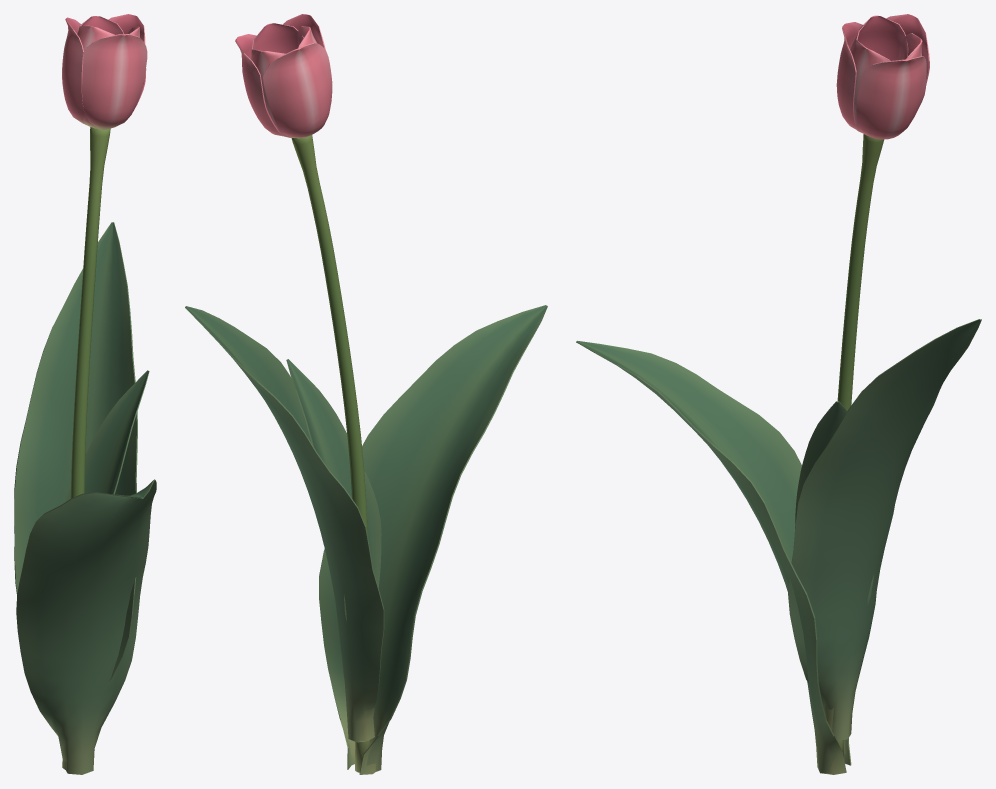
File: opening-pink.glb
3 renders of one model, left to right at view 1: azimuth 30°, elevation 25°; view 2: azimuth 150°, elevation 25°; view 3: azimuth 270°, elevation 25°, orthographic. The views are drawn at different scales.
Parts seen in each view (by area): view 1: tulip-opening-pink; view 2: tulip-opening-pink; view 3: tulip-opening-pink.
Part boxes in pixels (left/top/right/bottom): tulip-opening-pink: left=14, top=14, right=156, bottom=774; tulip-opening-pink: left=185, top=14, right=547, bottom=774; tulip-opening-pink: left=576, top=14, right=981, bottom=774.
Bounding box in the file's own units: 0.1037 × 0.4068 × 0.1944.
